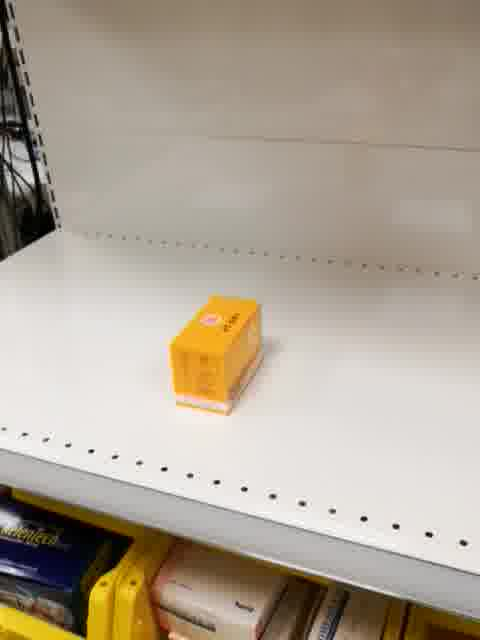jasminetea: (169, 293, 263, 416)
